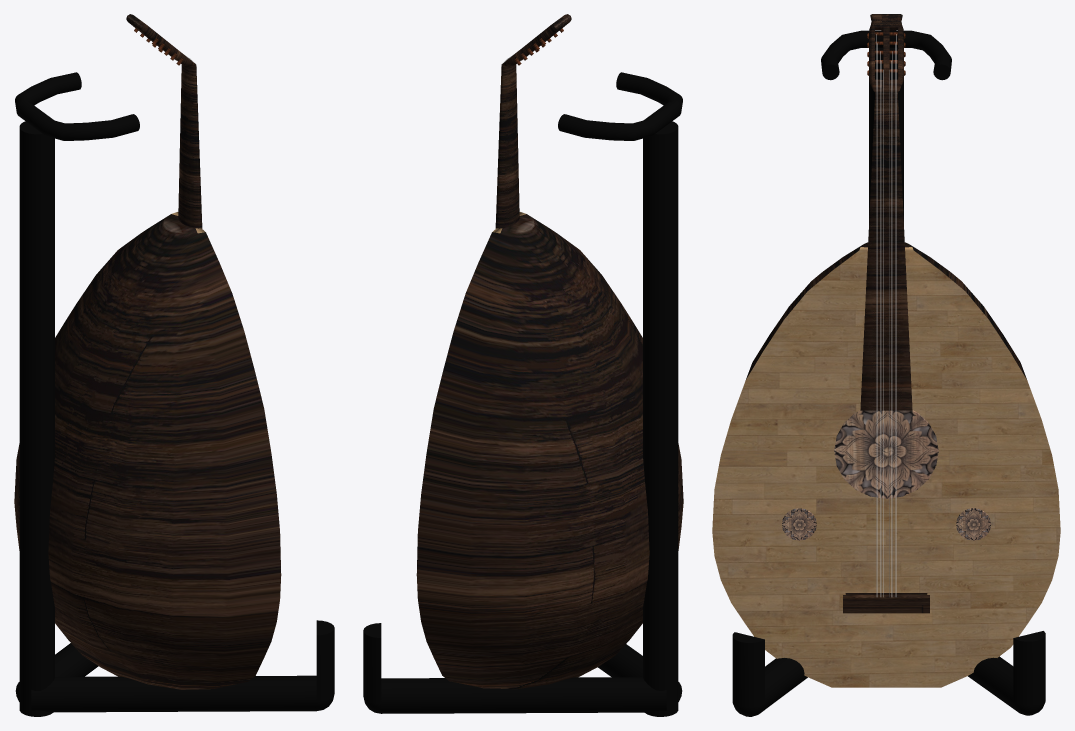
Rendered from alaude.glb.
3 views of the same model, side by side, from view 1: azimuth 30°, elevation 25°; view 2: azimuth 150°, elevation 25°; view 3: azimuth 270°, elevation 25° (orthographic). The views are drawn at different scales.
Visible parts, largest first — view 1: polySurface5, pCylinder38, pCylinder36, polySurface3, pCylinder1, pCylinder37, pCube1; view 2: polySurface5, pCylinder38, pCylinder37, polySurface3, pCylinder1, pCylinder36, pCube1; view 3: polySurface1, pCylinder1, pCylinder23, pCylinder37, pCylinder36, polySurface3, pCube1, pCube2, polySurface5, pCylinder38, pCylinder24, pCylinder25 (+4 smaller).
Part boxes in pixels (<box>): polySurface5: <box>14,214,281,689</box>; pCylinder38: <box>19,121,54,716</box>; pCylinder36: <box>31,620,334,712</box>; polySurface3: <box>15,72,139,140</box>; pCylinder1: <box>178,64,202,228</box>; pCylinder37: <box>15,643,98,701</box>; pCube1: <box>126,14,195,66</box>; polySurface5: <box>416,214,683,689</box>; pCylinder38: <box>643,121,678,716</box>; pCylinder37: <box>363,623,666,713</box>; polySurface3: <box>558,72,682,140</box>; pCylinder1: <box>495,64,519,228</box>; pCylinder36: <box>598,644,682,701</box>; pCube1: <box>502,14,571,66</box>; polySurface1: <box>712,247,1060,687</box>; pCylinder1: <box>860,92,912,410</box>; pCylinder23: <box>834,410,938,498</box>; pCylinder37: <box>968,631,1045,715</box>; pCylinder36: <box>732,632,807,716</box>; polySurface3: <box>821,30,951,80</box>; pCube1: <box>869,14,903,92</box>; pCube2: <box>843,595,929,613</box>; polySurface5: <box>746,242,1026,379</box>; pCylinder38: <box>869,48,903,221</box>; pCylinder24: <box>782,508,816,540</box>; pCylinder25: <box>956,508,990,540</box>.
Bounding box in the file's own units: 0.2828 × 0.7485 × 0.3639.
6 materials, 4 textured.
